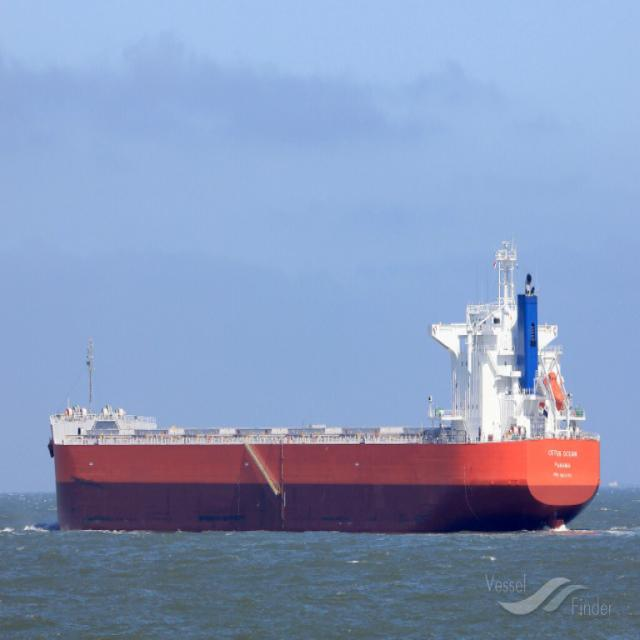OCR: (547, 437, 581, 484)
